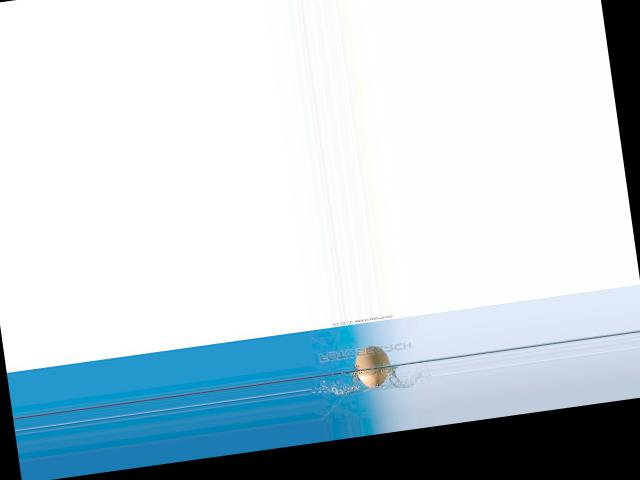egg: (353, 343, 393, 389)
